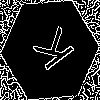K: (25, 25, 76, 78)
